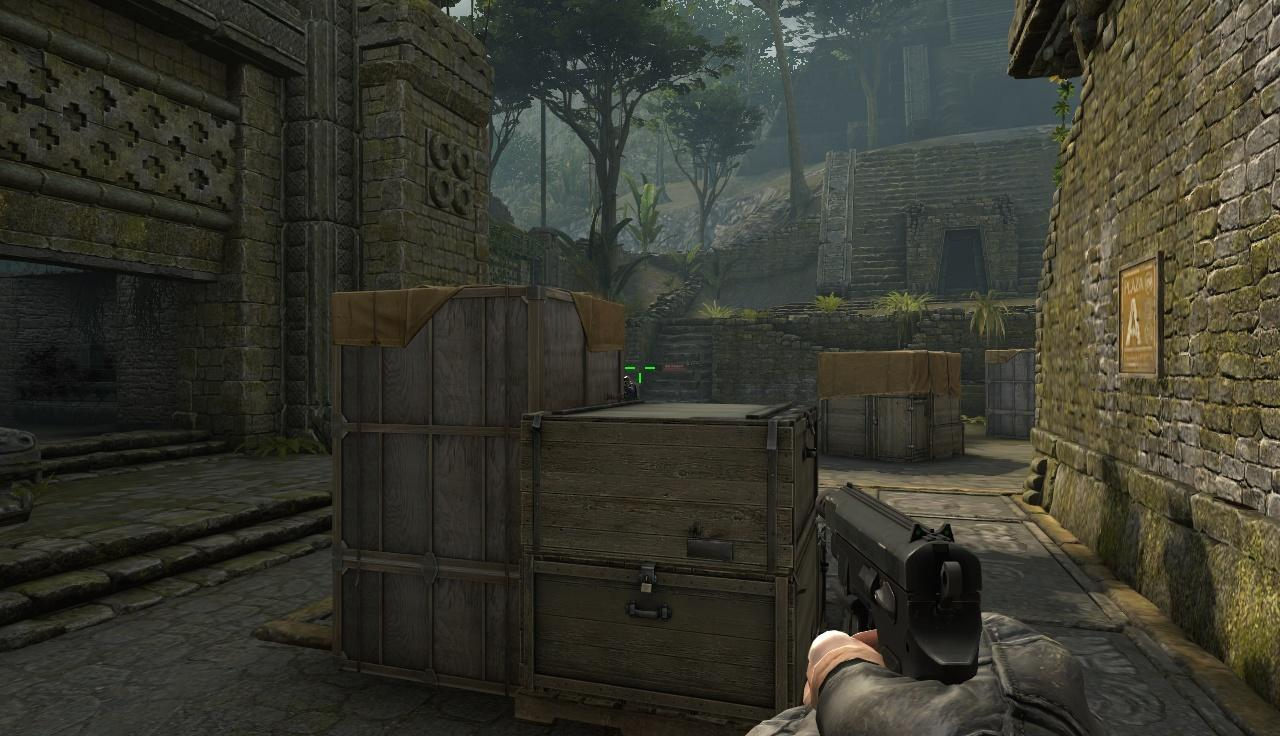ct: (622, 376, 637, 400)
cthead: (623, 375, 631, 385)
pistol: (807, 485, 1036, 736)
